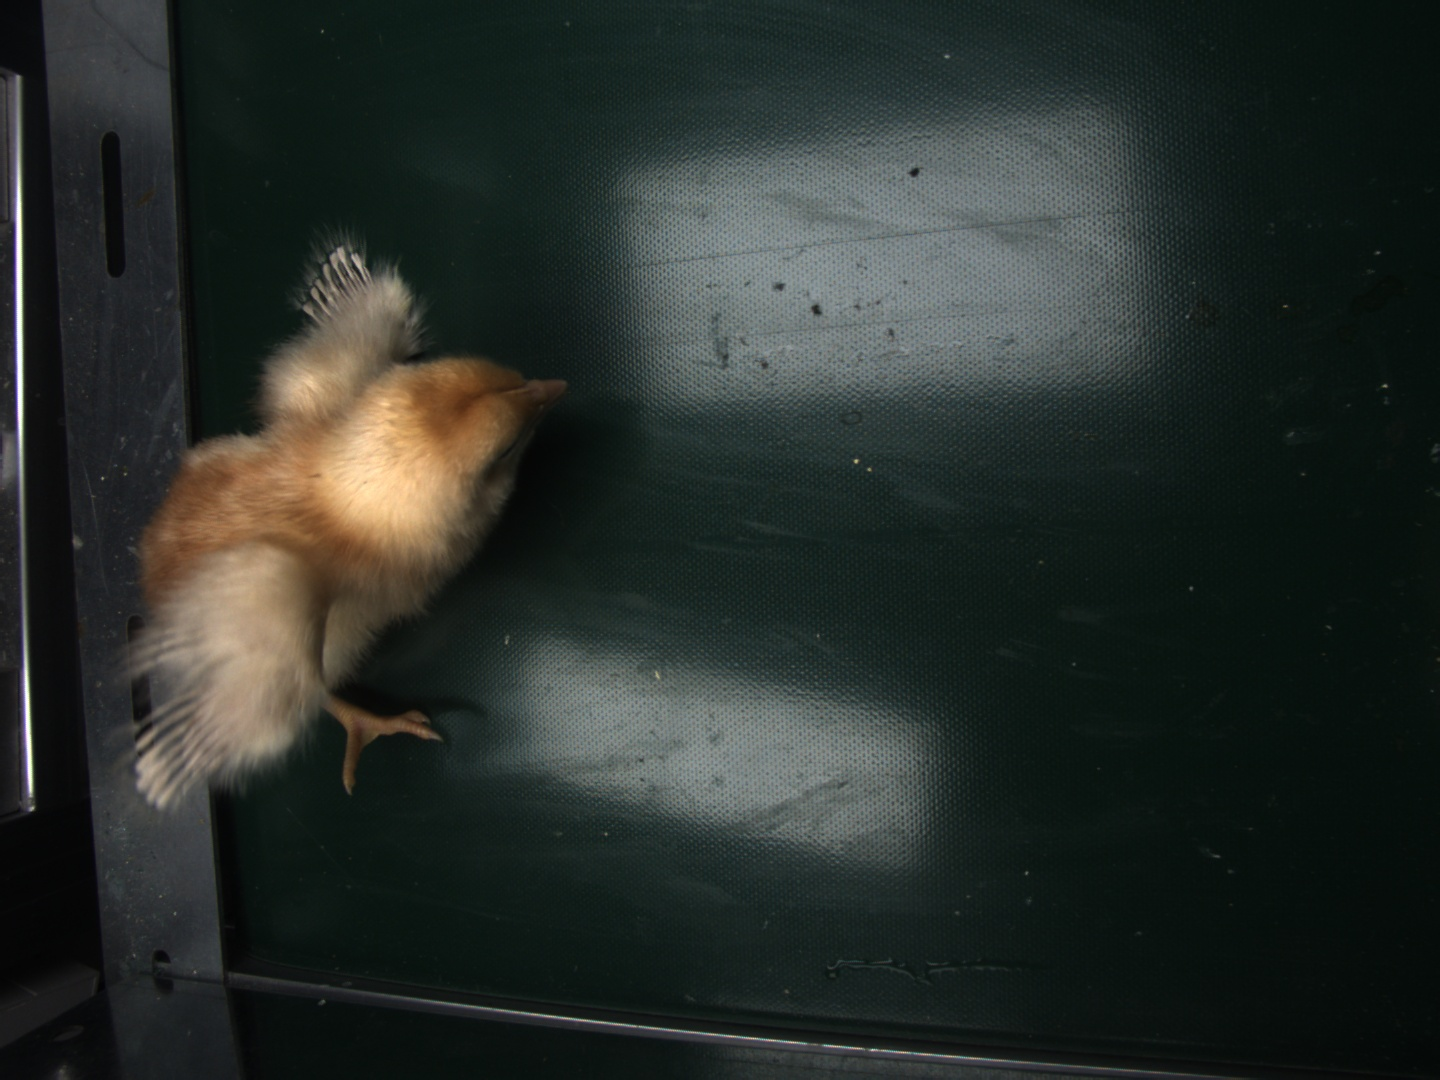female: (305, 242, 384, 324)
